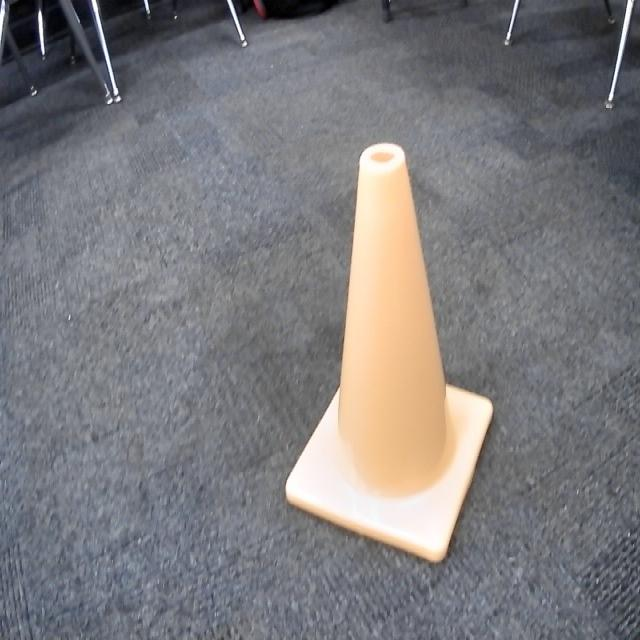cone: (281, 136, 504, 574)
